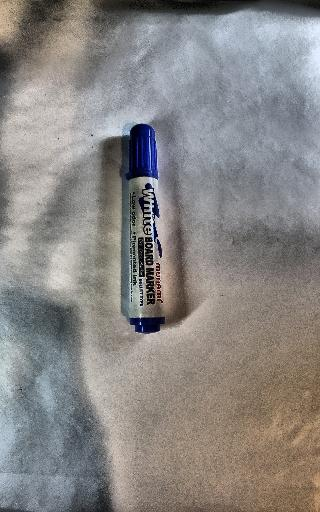marcador azul: (126, 124, 165, 334)
